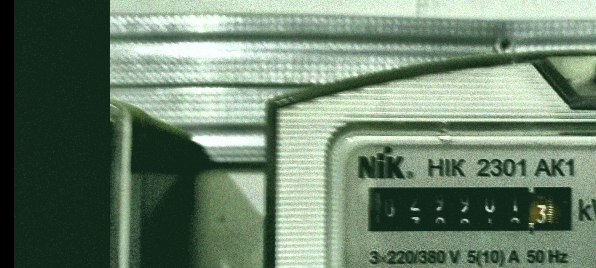0: (483, 189, 497, 214), (382, 196, 398, 217)
1: (508, 190, 521, 213)
2: (407, 193, 423, 212)
3: (535, 201, 548, 223)
9: (458, 191, 472, 213), (433, 191, 445, 213)
screen: (356, 176, 583, 240)
